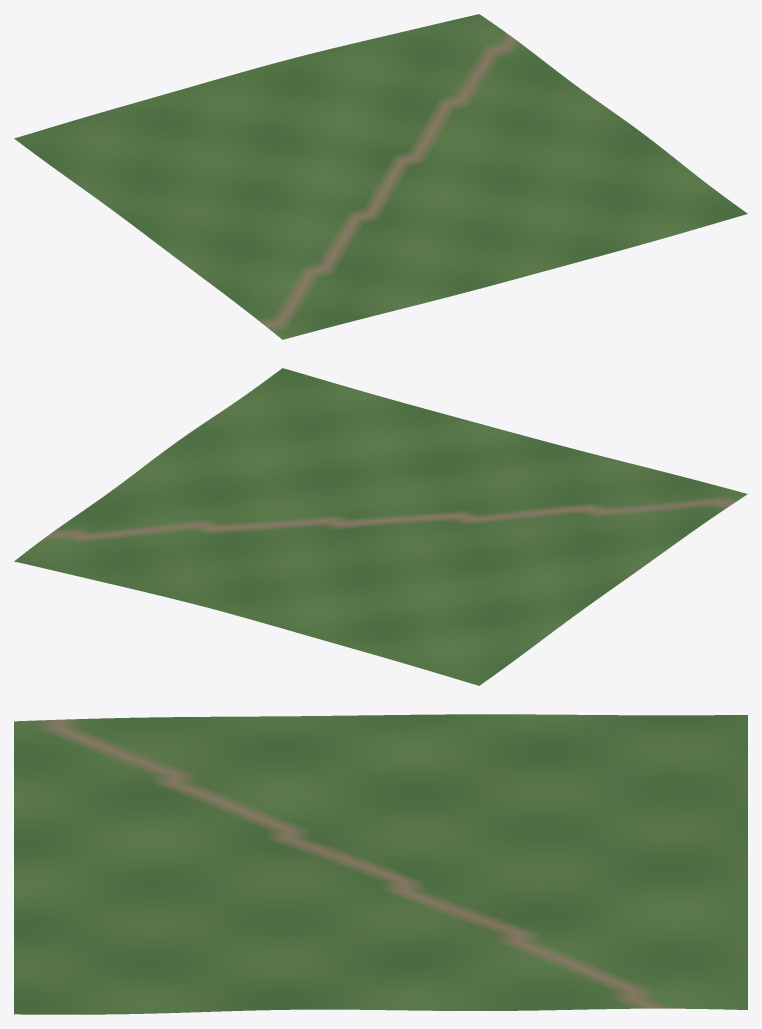
The model's file is chunk_6_7.glb.
The picture shows the model from 3 angles, top to bottom: view 1: azimuth 30°, elevation 25°; view 2: azimuth 150°, elevation 25°; view 3: azimuth 270°, elevation 25°; orthographic projection. The views are drawn at different scales.
Size of the model in its own units: 512 by 18.12 by 512.
